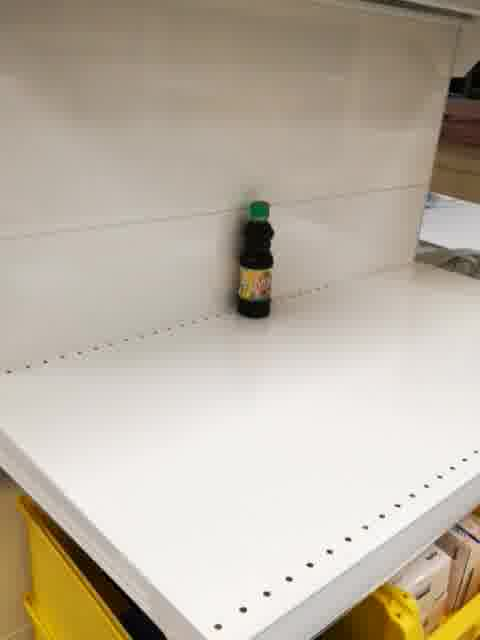cookingoil: (233, 200, 277, 319)
